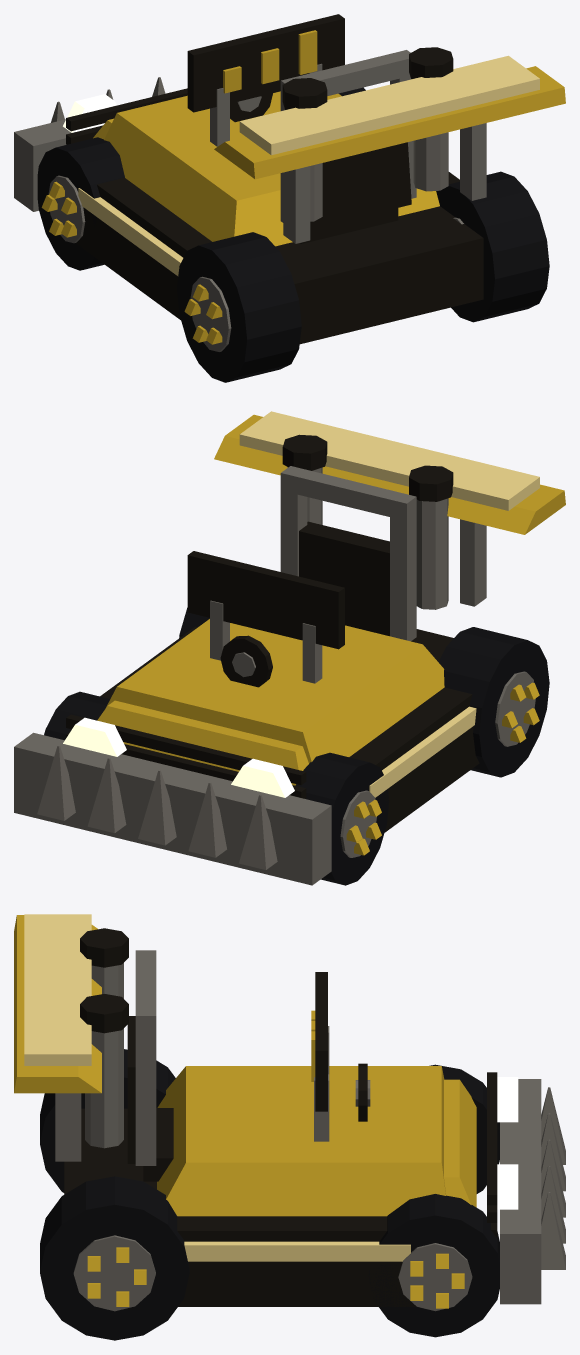
File: BOSS_DEV_GOLD.fbx
The picture shows the model from 3 angles, top to bottom: view 1: azimuth 30°, elevation 25°; view 2: azimuth 150°, elevation 25°; view 3: azimuth 270°, elevation 25°; orthographic projection. The views are drawn at different scales.
Parts seen in each view (by area): view 1: BOSS_DEV_GOLD_Body, BOSS_DEV_GOLD_Wheel_RL, BOSS_DEV_GOLD_Wheel_RR, BOSS_DEV_GOLD_Wheel_FL, BOSS_DEV_GOLD_Steering; view 2: BOSS_DEV_GOLD_Body, BOSS_DEV_GOLD_Wheel_RL, BOSS_DEV_GOLD_Wheel_FL, BOSS_DEV_GOLD_Steering, BOSS_DEV_GOLD_Wheel_FR; view 3: BOSS_DEV_GOLD_Body, BOSS_DEV_GOLD_Wheel_RR, BOSS_DEV_GOLD_Wheel_FR, BOSS_DEV_GOLD_Wheel_RL, BOSS_DEV_GOLD_Wheel_FL, BOSS_DEV_GOLD_Steering.
Part boxes in pixels (box(x1,y1,x2,y2)): BOSS_DEV_GOLD_Body: box(14, 14, 565, 344); BOSS_DEV_GOLD_Wheel_RL: box(177, 232, 301, 382); BOSS_DEV_GOLD_Wheel_RR: box(436, 171, 549, 322); BOSS_DEV_GOLD_Wheel_FL: box(37, 137, 124, 270); BOSS_DEV_GOLD_Steering: box(230, 93, 272, 122); BOSS_DEV_GOLD_Body: box(14, 411, 565, 885); BOSS_DEV_GOLD_Wheel_RL: box(438, 627, 549, 777); BOSS_DEV_GOLD_Wheel_FL: box(295, 752, 389, 885); BOSS_DEV_GOLD_Steering: box(220, 635, 272, 687); BOSS_DEV_GOLD_Wheel_FR: box(44, 691, 110, 740); BOSS_DEV_GOLD_Body: box(14, 914, 565, 1306); BOSS_DEV_GOLD_Wheel_RR: box(40, 1176, 189, 1340); BOSS_DEV_GOLD_Wheel_FR: box(368, 1194, 499, 1337); BOSS_DEV_GOLD_Wheel_RL: box(40, 1049, 175, 1192); BOSS_DEV_GOLD_Wheel_FL: box(429, 1064, 499, 1193); BOSS_DEV_GOLD_Steering: box(355, 1063, 370, 1121).
Size of the model in its own units: 1.56 by 1.24 by 2.13.
